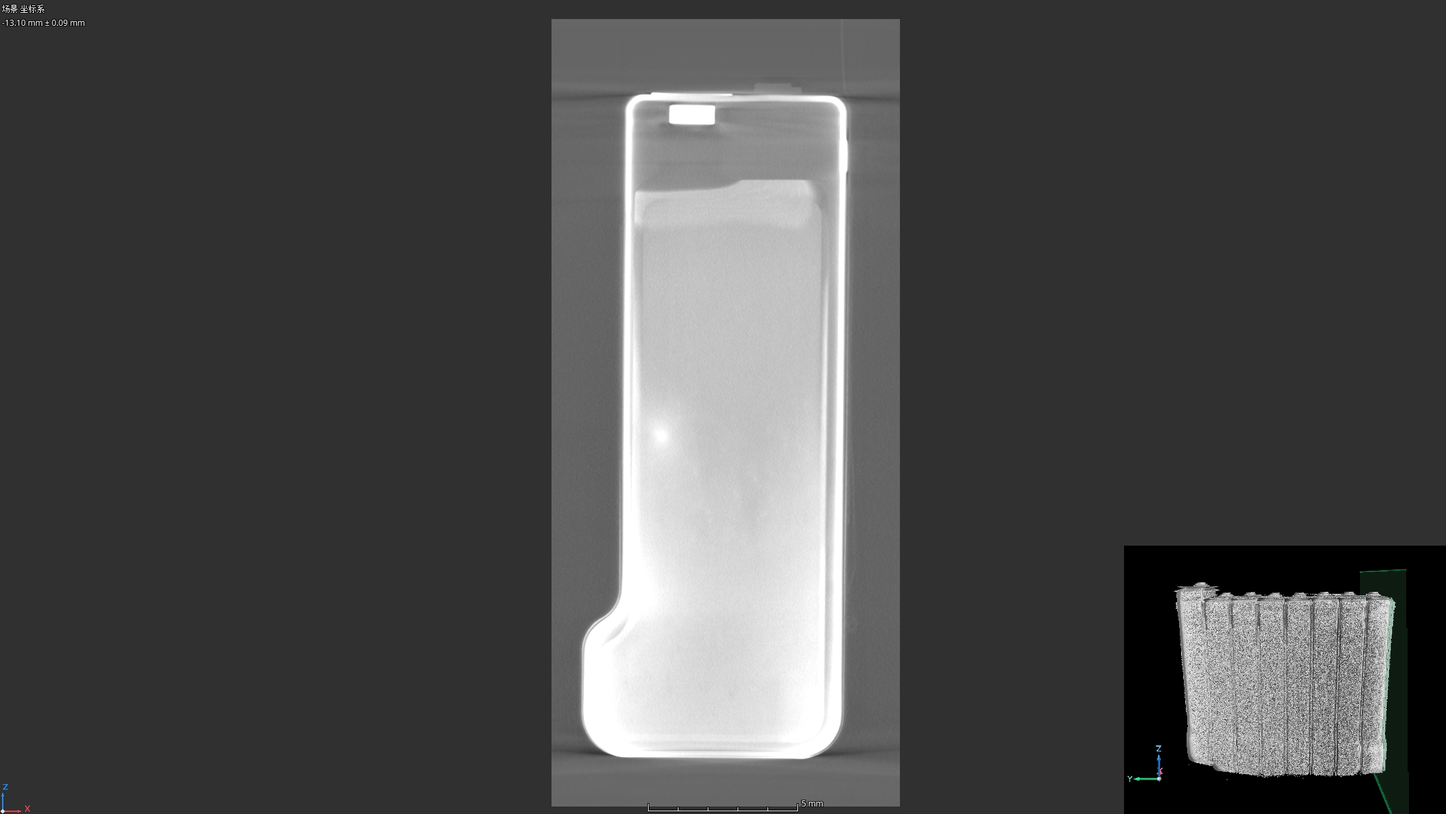light: (648, 425, 678, 450)
